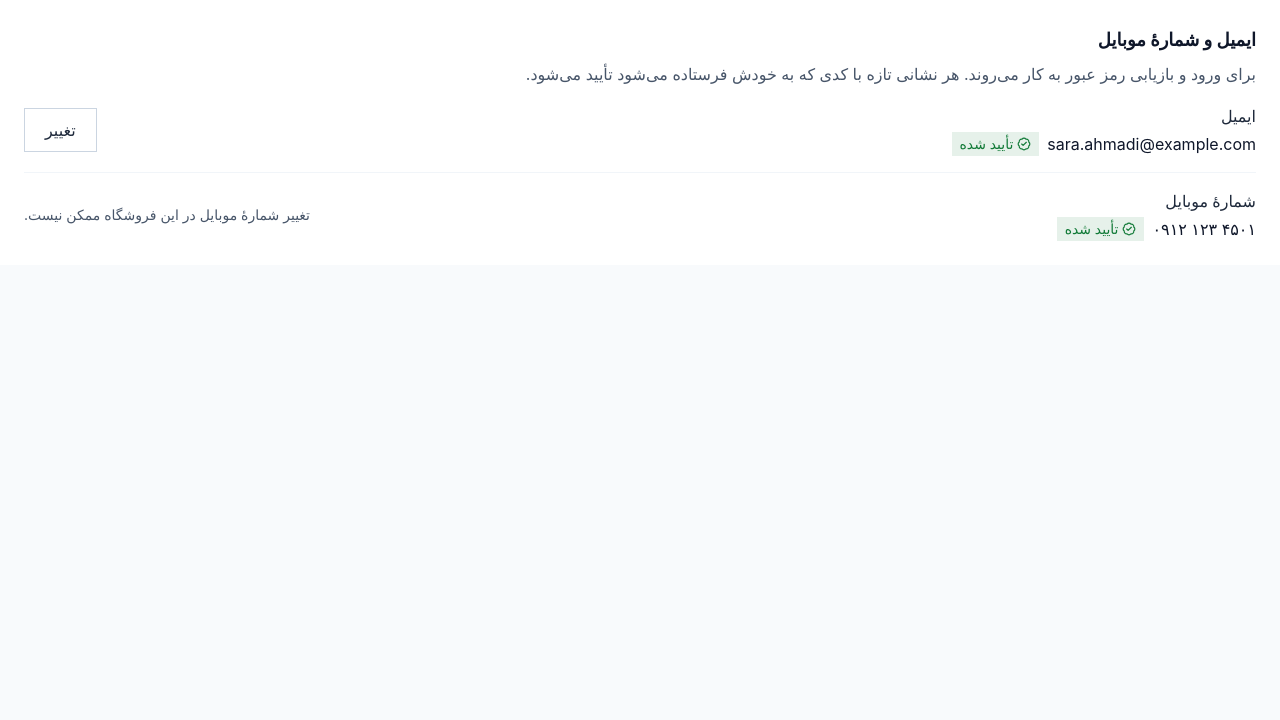
Test case: changing the email › 503 auth_otp_send_failed: the detail, and the button sends again at once
The image size is (1280, 720).
Click the button with aria-label "تغییر ایمیل" at coordinates (60, 130), box [24, 108, 97, 152]
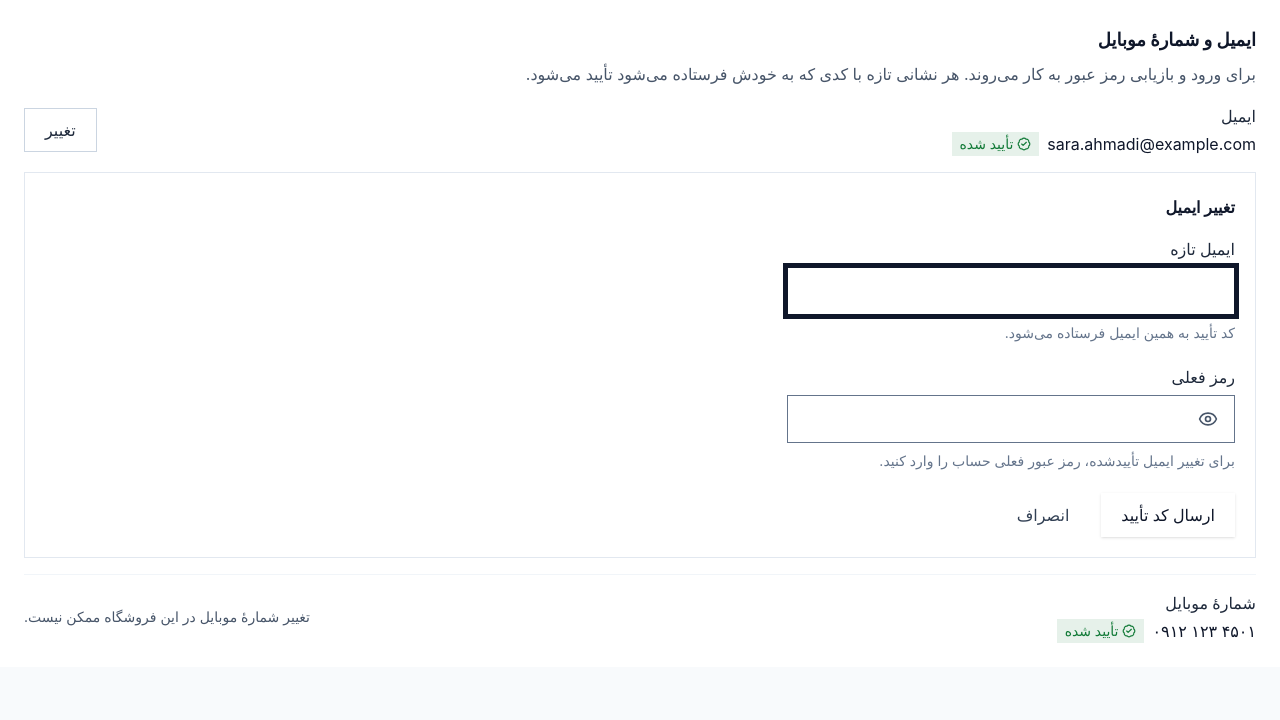
Type "sara.new@example.com" into the field labelled "ایمیل تازه" at coordinates (1011, 291), box [788, 268, 1234, 314]
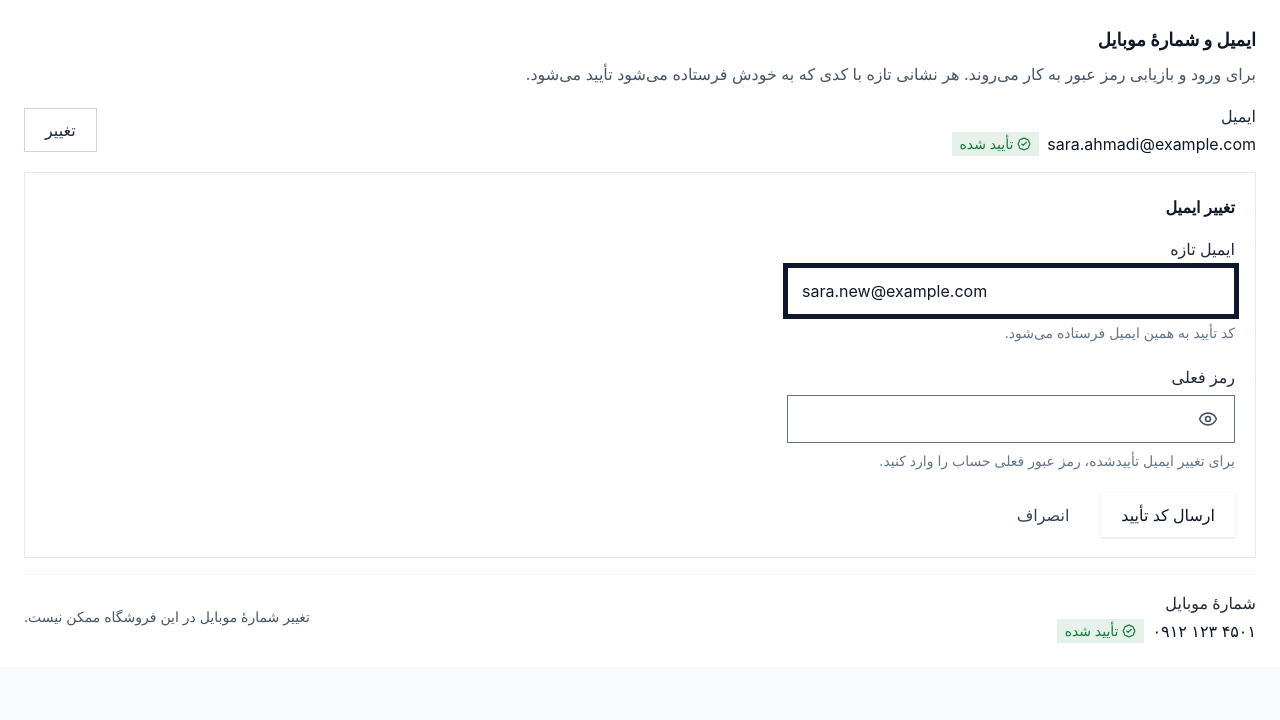
Type "Firefly@1234" into the password field labelled "رمز فعلی" at coordinates (987, 419), box [788, 396, 1186, 442]
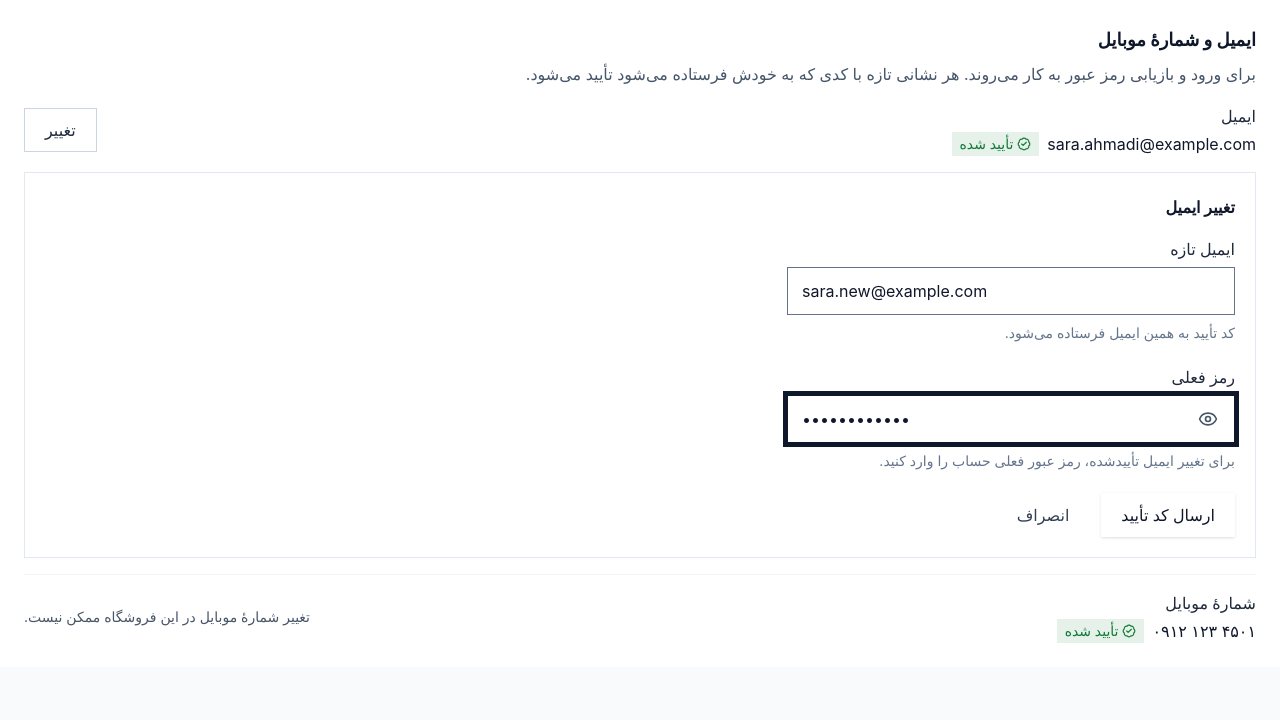
Click the button "ارسال کد تأیید" at coordinates (1168, 515), box [1101, 493, 1235, 537]
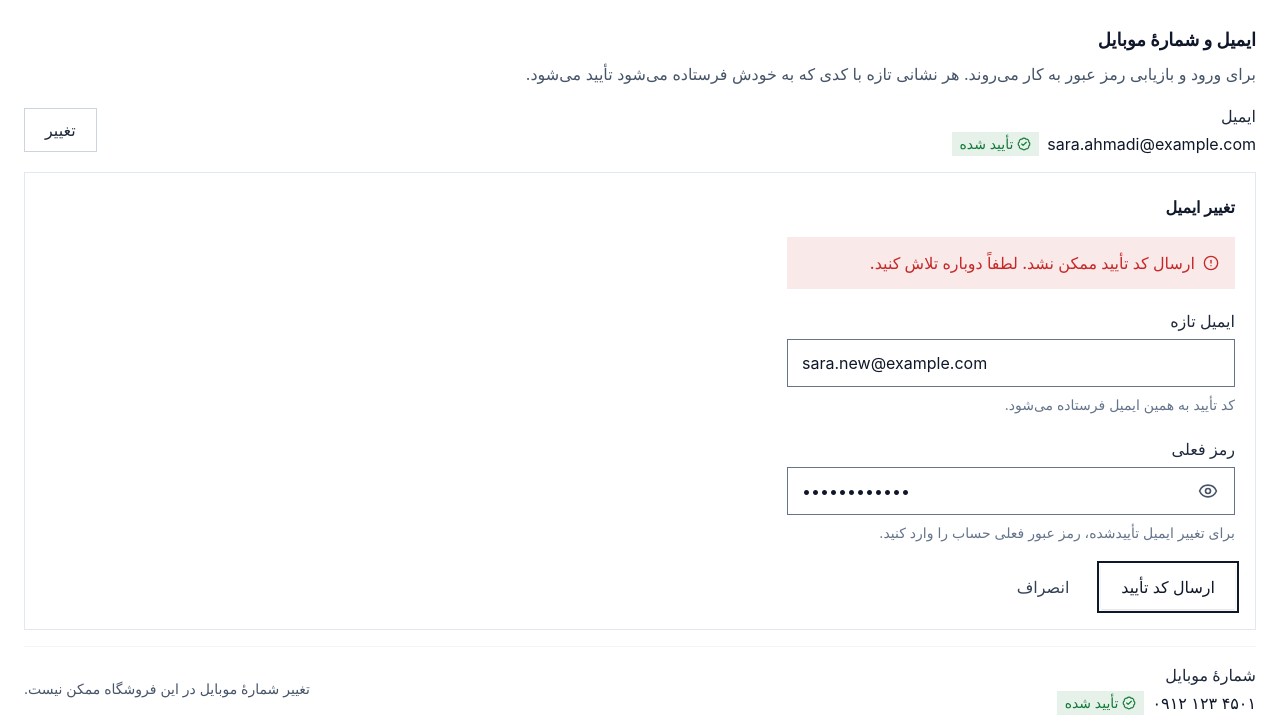
Expected: the message reads "ارسال کد تأیید ممکن نشد. لطفاً دوباره تلاش کنید.", [870, 253, 1195, 273]
Click the button "ارسال کد تأیید" at coordinates (1168, 587), box [1101, 565, 1235, 609]
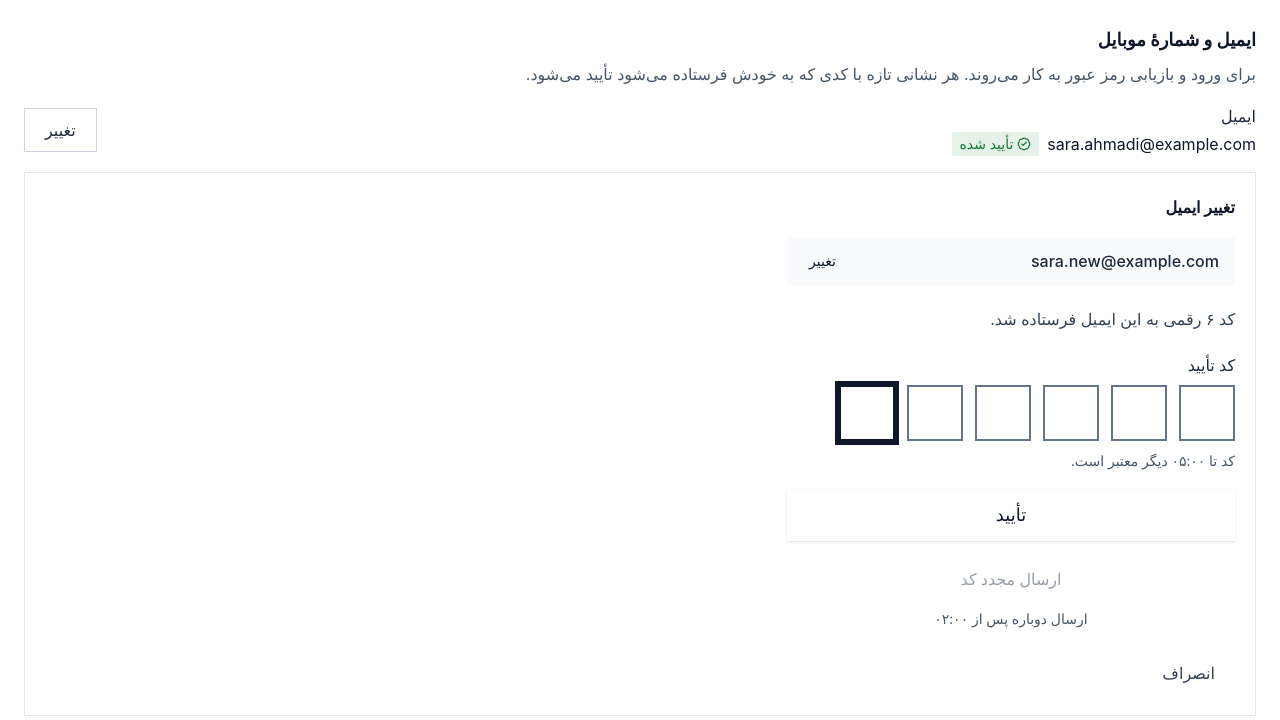
Expected: the element named "کد تأیید" is shown, [839, 385, 1235, 441]
